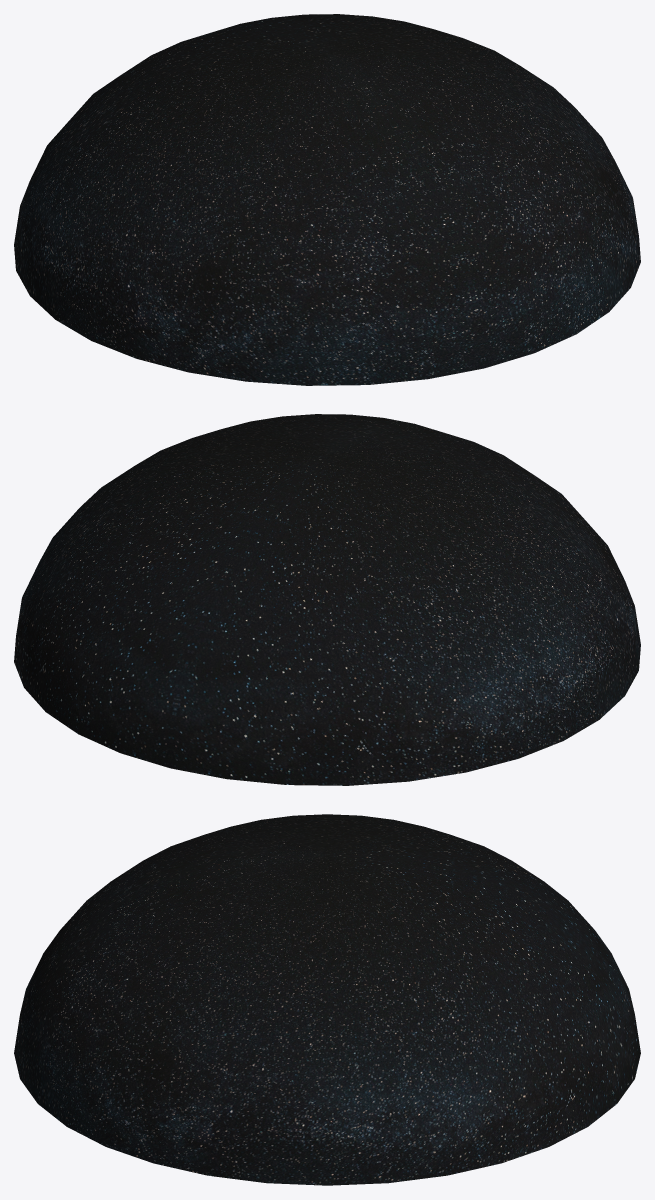
Rendered from sky_model.FBX.
3 renders of one model, top to bottom at view 1: azimuth 30°, elevation 25°; view 2: azimuth 150°, elevation 25°; view 3: azimuth 270°, elevation 25°, orthographic.
Parts seen in each view (by area): view 1: sky_dome; view 2: sky_dome; view 3: sky_dome.
Part boxes in pixels (<box>): sky_dome: <box>14,14,640,385</box>; sky_dome: <box>14,414,640,785</box>; sky_dome: <box>14,814,640,1185</box>.
Bounding box in the file's own units: 100 × 35 × 100.
2 materials, 2 textured.
